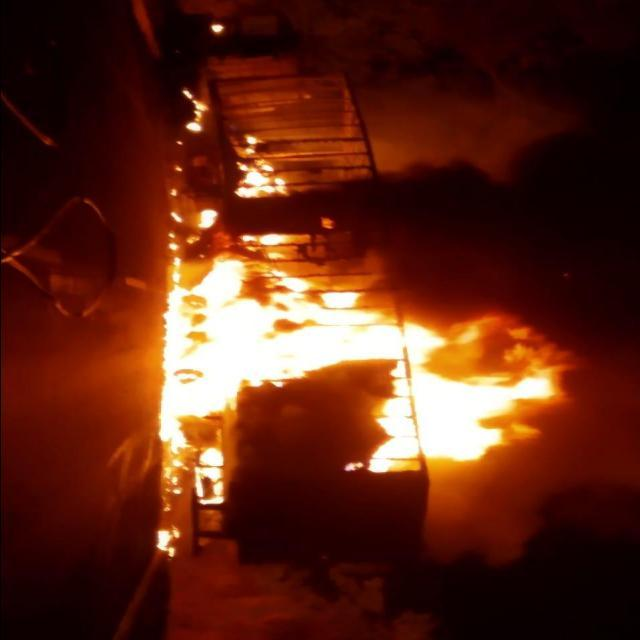Fire: (168, 208, 570, 480), (230, 137, 286, 197), (177, 88, 209, 133), (156, 526, 178, 558)
